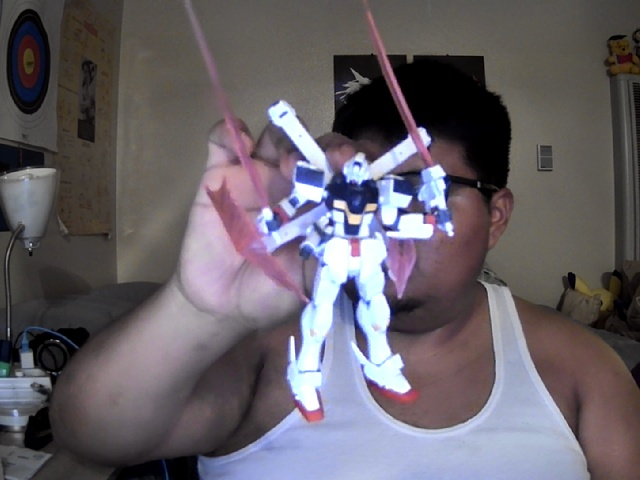Crossbones: (185, 2, 455, 426)
